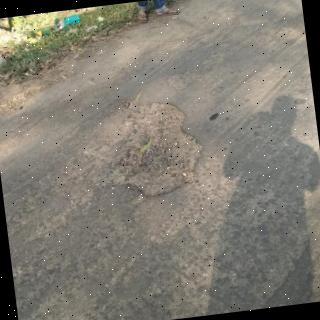pothole: (98, 101, 204, 202)
